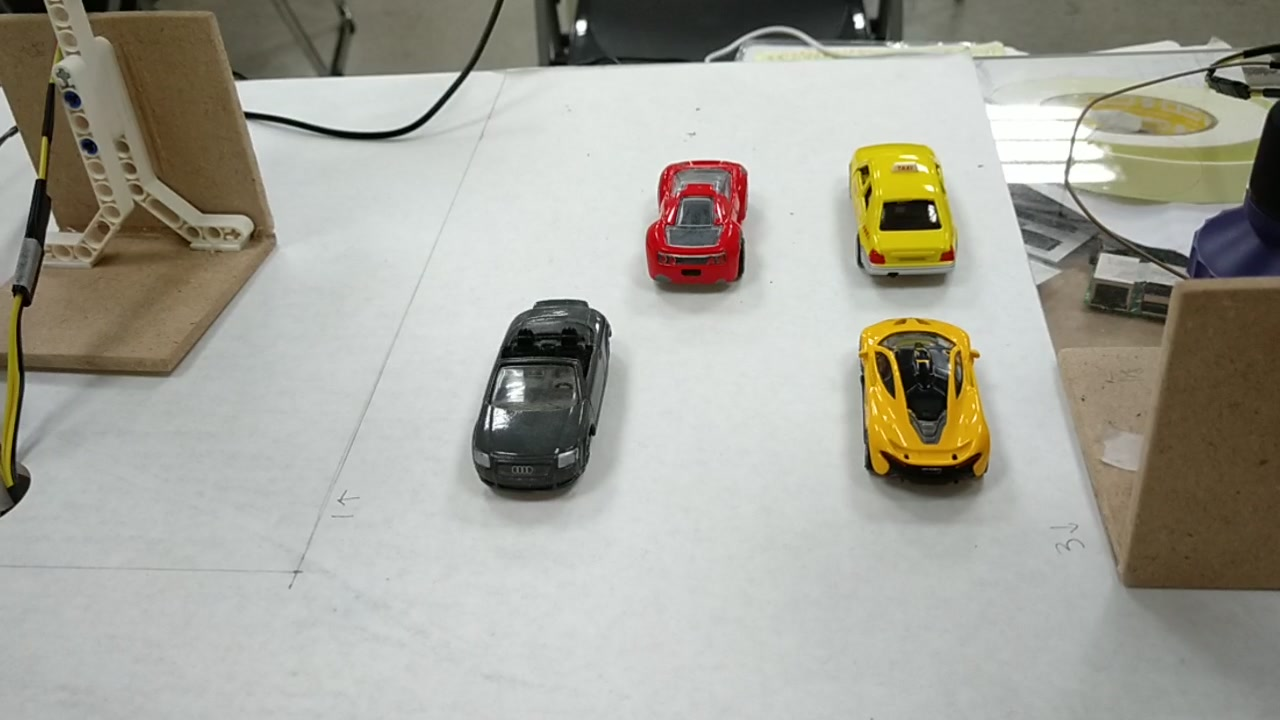car: (466, 302, 615, 481), (868, 329, 995, 482), (644, 158, 757, 280), (857, 139, 955, 273)
